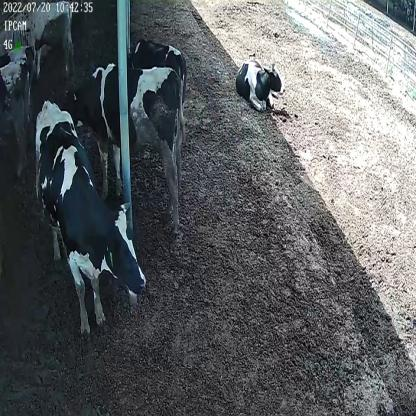cow: (34, 96, 149, 334), (61, 64, 184, 243), (129, 36, 188, 114), (234, 56, 288, 112)
